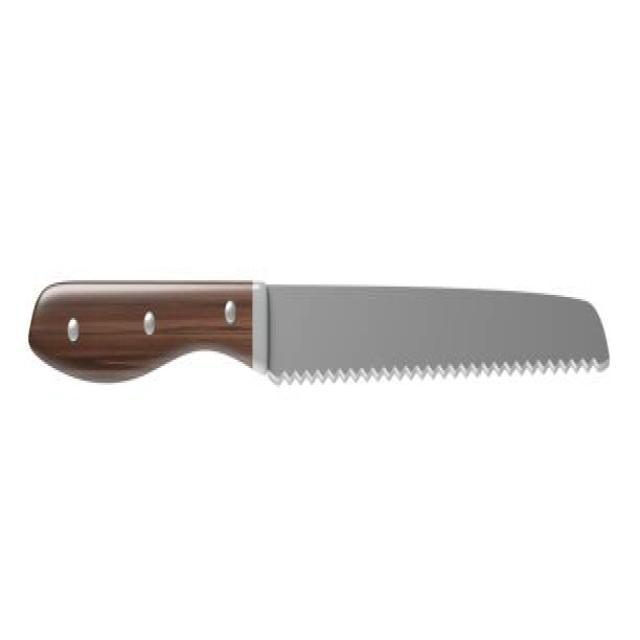knife: (28, 282, 614, 396)
